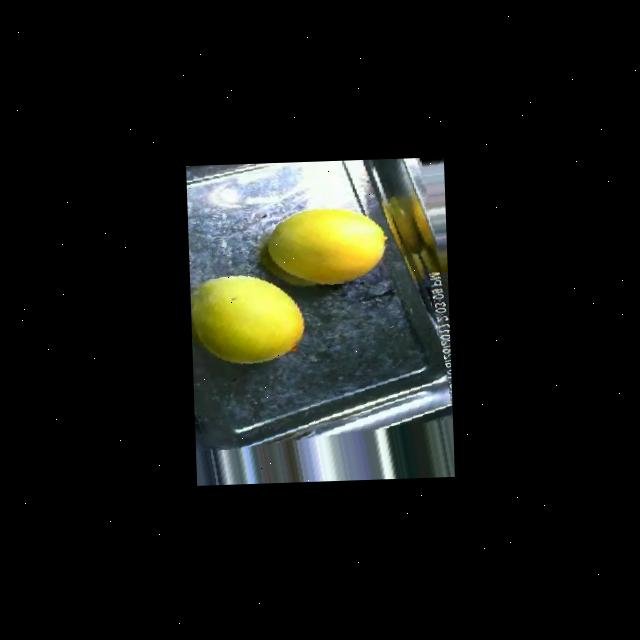Mango: (190, 270, 306, 364), (265, 204, 389, 286)
